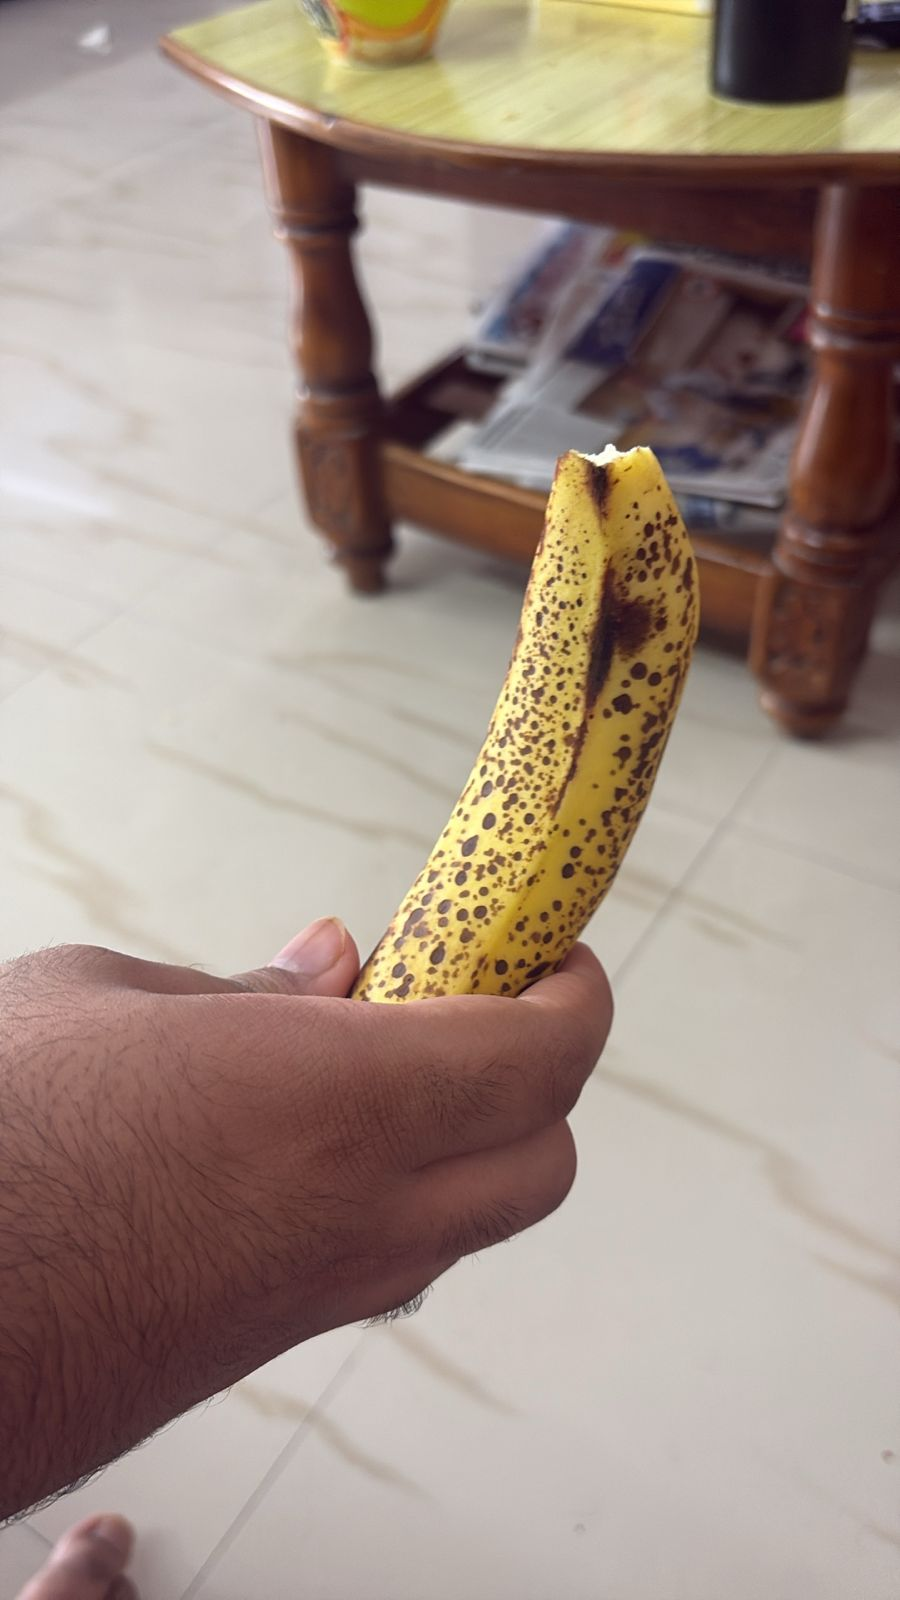wet: (377, 398, 696, 1013)
